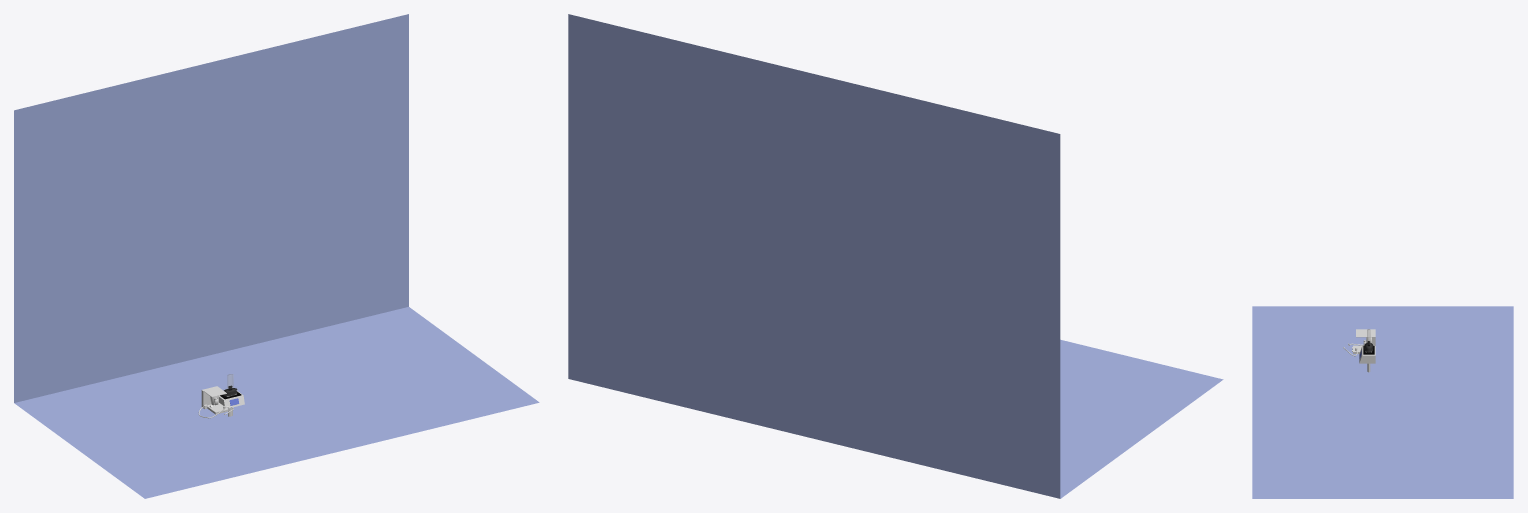
The picture shows the model from 3 angles, left to right: view 1: azimuth 30°, elevation 25°; view 2: azimuth 150°, elevation 25°; view 3: azimuth 270°, elevation 25°; orthographic projection. The views are drawn at different scales.
Visible parts, largest first — view 1: Plane; view 2: Plane; view 3: Plane.
Boxes of the visible parts, x1=… form: Plane: x1=14, y1=14, x2=539, y2=498; Plane: x1=568, y1=14, x2=1223, y2=498; Plane: x1=1252, y1=306, x2=1513, y2=498.
Size of the model in its own units: 146 by 103 by 83.62.
